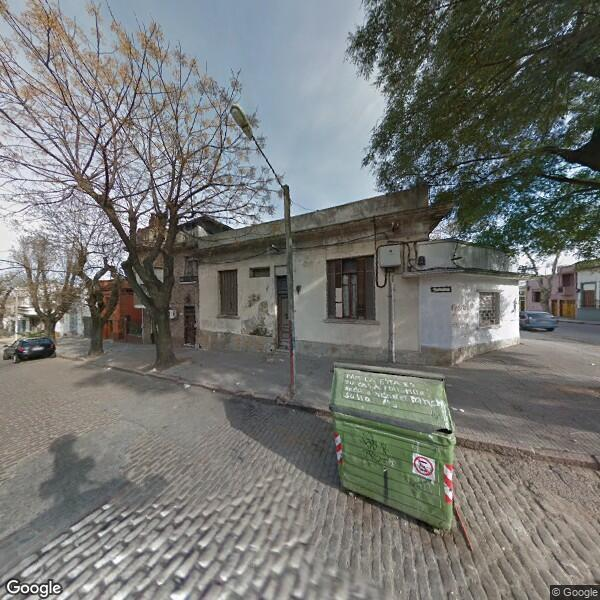Trash: (326, 357, 462, 537)
